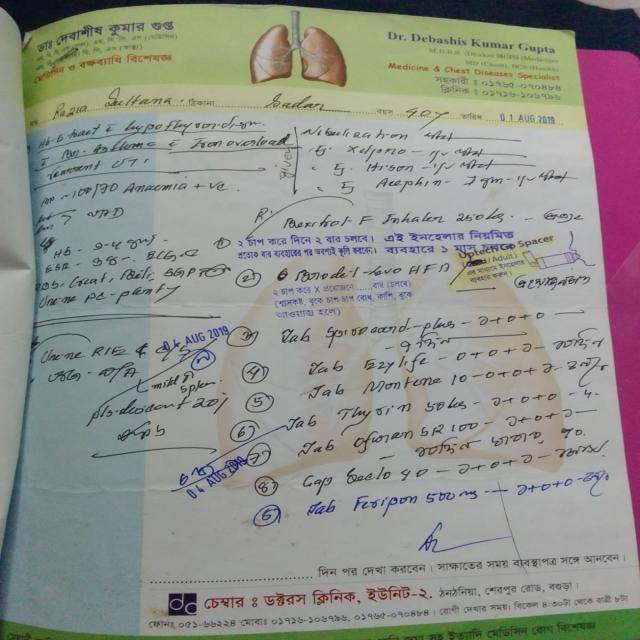Bexitrol F: (283, 212, 380, 230)
Brodil Levo HFA: (293, 262, 455, 278)
Ezylife: (366, 355, 440, 373)
Feripon: (349, 491, 420, 513)
Montene: (365, 377, 442, 395)
Ofuran SR: (349, 424, 457, 450)
Seclo: (346, 467, 398, 485)
Spirocard Plus: (326, 314, 460, 340)
Thyrin: (334, 401, 416, 424)
